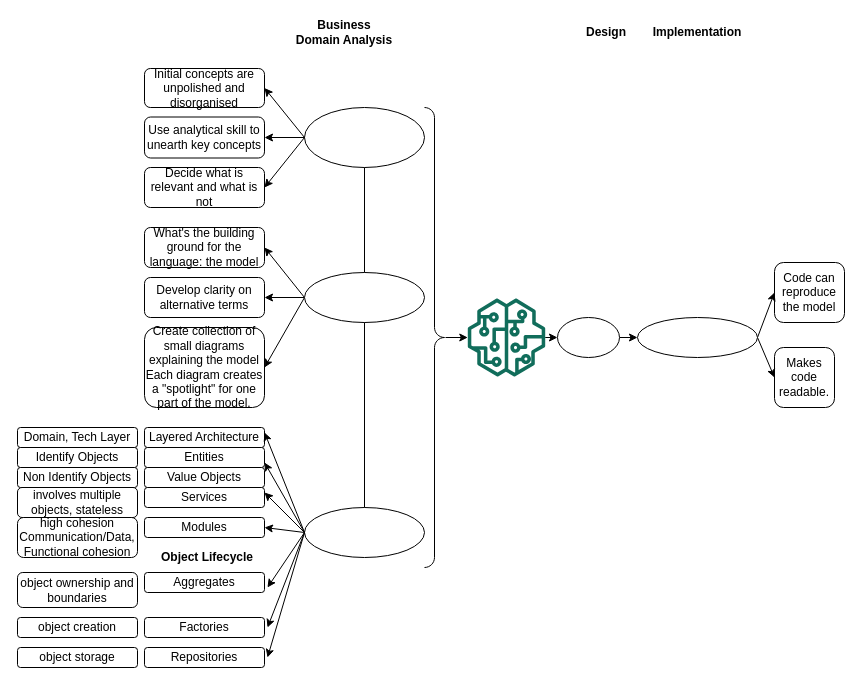
This 862x685 diagram has some shape labels left out. Here are the shapes that lost their labels. From the top down, the box of each, then its label:
(304, 106, 424, 168): Building Domain Knowledge
(304, 272, 424, 322): Developing the ubiquitous language
(467, 298, 545, 376): Analysis Model
(636, 316, 758, 358): Implement model concepts in code
(304, 506, 424, 558): Building Blocks of Model Drive Design
